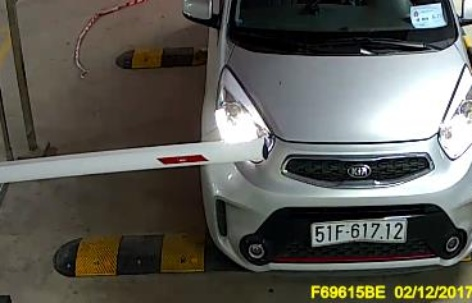plate: (309, 215, 410, 245)
